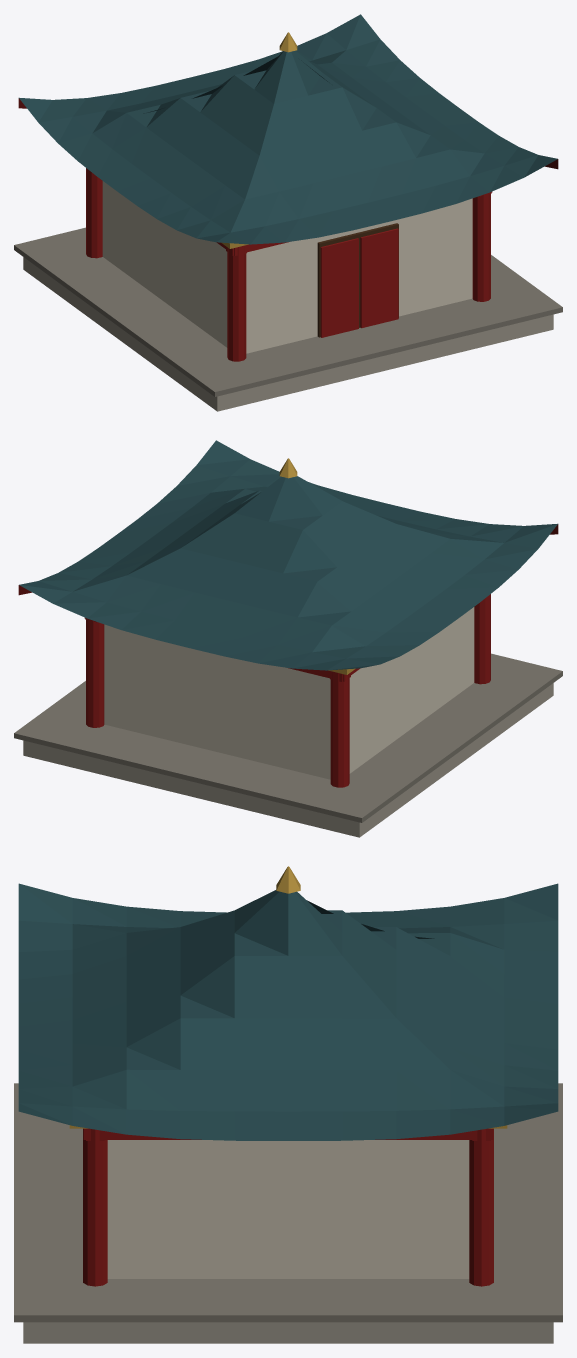
The model's file is pagoda-hall.glb.
3 views of the same model, one above another, from view 1: azimuth 30°, elevation 25°; view 2: azimuth 150°, elevation 25°; view 3: azimuth 270°, elevation 25° (orthographic). The views are drawn at different scales.
Parts seen in each view (by area): view 1: pagoda-hall; view 2: pagoda-hall; view 3: pagoda-hall.
Part boxes in pixels (x1=…): pagoda-hall: x1=14, y1=14, x2=562, y2=411; pagoda-hall: x1=14, y1=440, x2=562, y2=837; pagoda-hall: x1=14, y1=866, x2=562, y2=1343.
Size of the model in its own units: 11.8 by 8.65 by 11.8.
